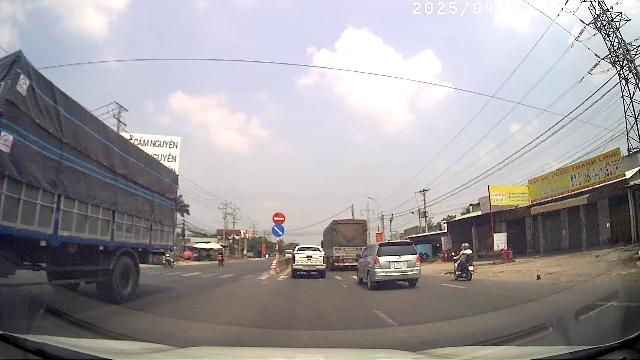102-cam-di-nguoc-chieu: (273, 212, 285, 224)
302a-huong-phai-di-vong-chuong-ngai-vat-1: (272, 225, 284, 237)
